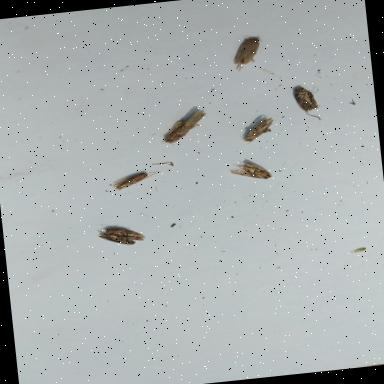pbw: (225, 33, 268, 74), (291, 83, 330, 125), (225, 156, 274, 184), (236, 118, 278, 148), (112, 169, 164, 193), (156, 120, 195, 148), (97, 230, 137, 250), (180, 108, 212, 132)
